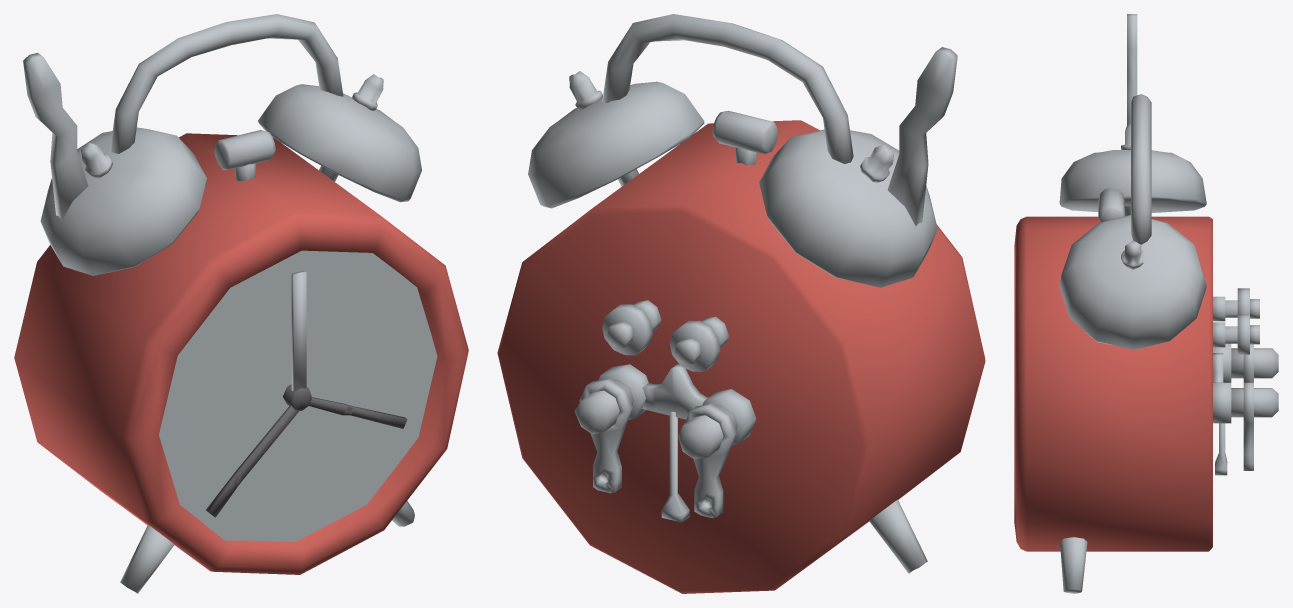
The model's file is alarm_clock.glb.
The picture shows the model from 3 angles, left to right: view 1: azimuth 30°, elevation 25°; view 2: azimuth 150°, elevation 25°; view 3: azimuth 270°, elevation 25°; orthographic projection. The views are drawn at different scales.
Visible parts, largest first — view 1: alarm_clock; view 2: alarm_clock; view 3: alarm_clock.
Part boxes in pixels (bbox=[...]): alarm_clock: bbox=[14, 14, 468, 593]; alarm_clock: bbox=[497, 14, 985, 593]; alarm_clock: bbox=[1014, 14, 1278, 593].
Size of the model in its own units: 0.0894 by 0.1167 by 0.063.
